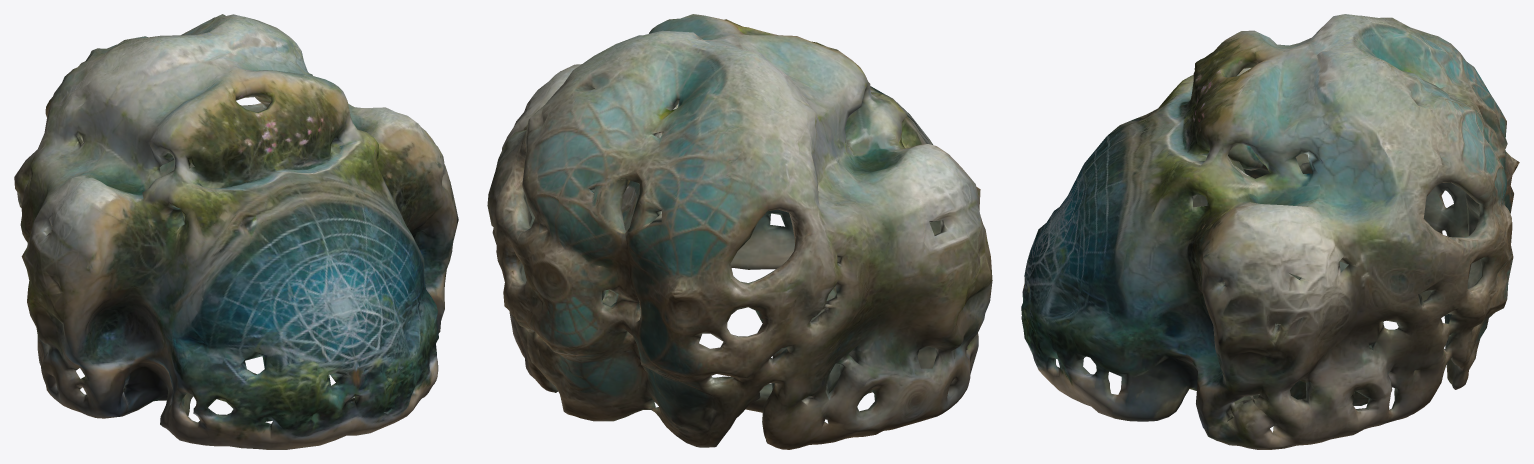
The model's file is hypercomplex_esoteric_0126140238_texture.glb.
3 views of the same model, side by side, from view 1: azimuth 30°, elevation 25°; view 2: azimuth 150°, elevation 25°; view 3: azimuth 270°, elevation 25° (orthographic). The views are drawn at different scales.
Size of the model in its own units: 1.97 by 1.43 by 1.96.
Materials: 1 (1 with a texture image).
